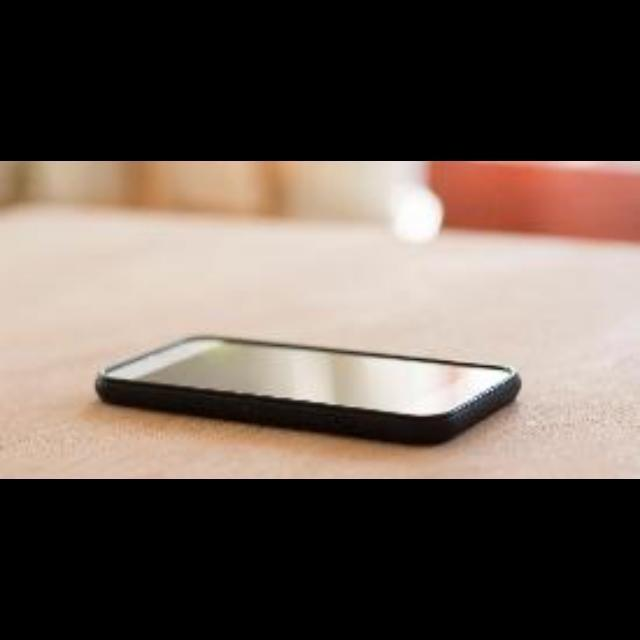phone: (93, 343, 525, 440)
